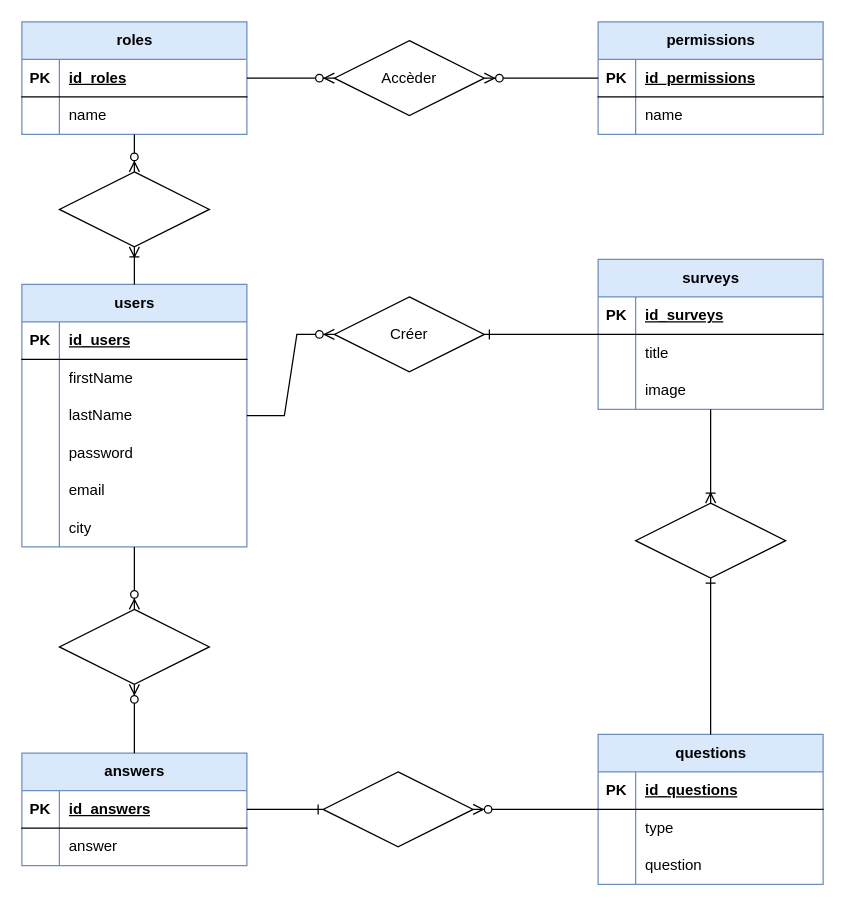
This 845x906 diagram has some shape labels left out. Each missing label, with the centre of its shape:
"Avoir" goes at pixel 133 646.
"Génerer" goes at pixel 397 809.
"Gérer" goes at pixel 133 209.
"Possèder" goes at pixel 710 540.
